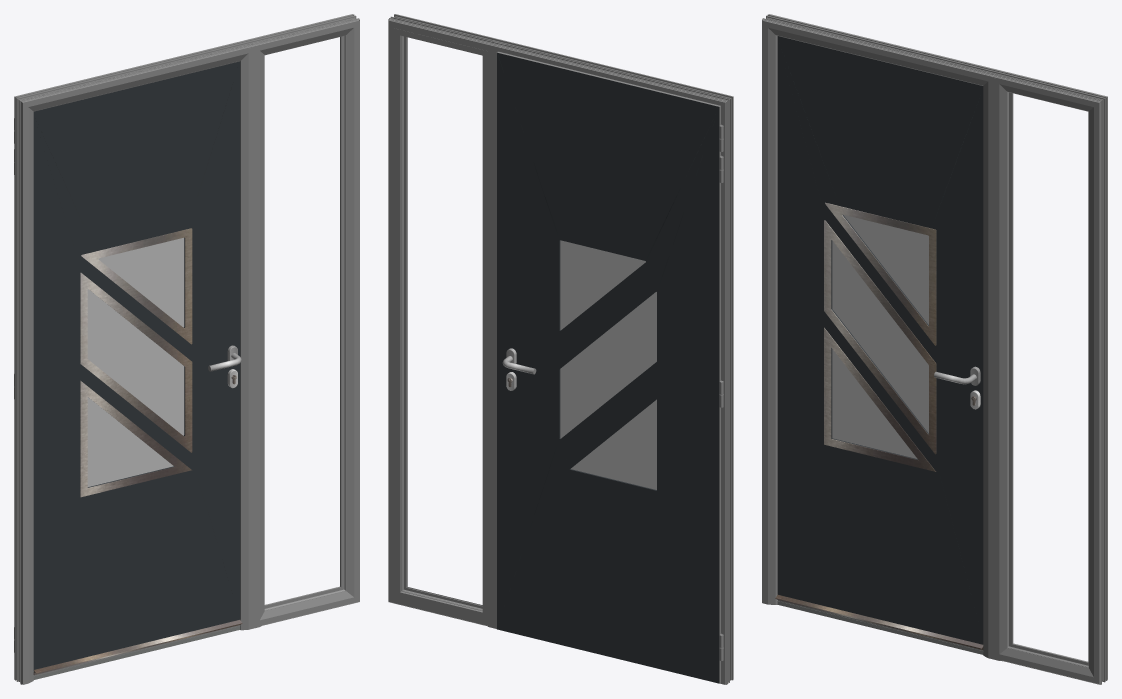
3 views of the same model, side by side, from view 1: azimuth 30°, elevation 25°; view 2: azimuth 150°, elevation 25°; view 3: azimuth 330°, elevation 25° (orthographic).
Visible parts, largest first — view 1: bloco_084, Rectangle002, Vidro Porta, Line004, alunox_050, Object, Object001, Line005, Rectangle005, Rectangle003; view 2: bloco_084, Rectangle002, Vidro Porta, Rectangle003, Line004, Object001, Rectangle004, Object; view 3: bloco_084, Rectangle002, Vidro Porta, Line004, alunox_050, Object001, Object, Line005, Rectangle003, Rectangle005.
Part boxes in pixels (x1,y1,x2,y2): bloco_084: (33,61,240,671); Rectangle002: (14,14,359,684); Vidro Porta: (87,237,184,486); Line004: (240,46,264,630); alunox_050: (80,228,192,497); Object: (33,35,346,680); Object001: (264,36,344,608); Line005: (33,620,242,674); Rectangle005: (33,625,240,679); Rectangle003: (264,37,340,605); bloco_084: (497,52,719,683); Rectangle002: (388,14,733,684); Vidro Porta: (560,240,656,489); Rectangle003: (394,28,487,619); Line004: (488,41,504,628); Object001: (401,36,482,610); Rectangle004: (496,51,720,683); Object: (404,36,482,608); bloco_084: (777,36,983,644); Rectangle002: (762,14,1107,684); Vidro Porta: (832,214,928,458); Line004: (983,77,1007,661); alunox_050: (824,202,936,471); Object001: (1007,92,1088,665); Object: (776,35,1088,667); Line005: (775,595,983,649); Rectangle003: (1012,93,1087,662); Rectangle005: (777,600,983,654).
Bounding box in the file's own units: 1307 × 2150 × 192.
7 materials, 4 textured.
